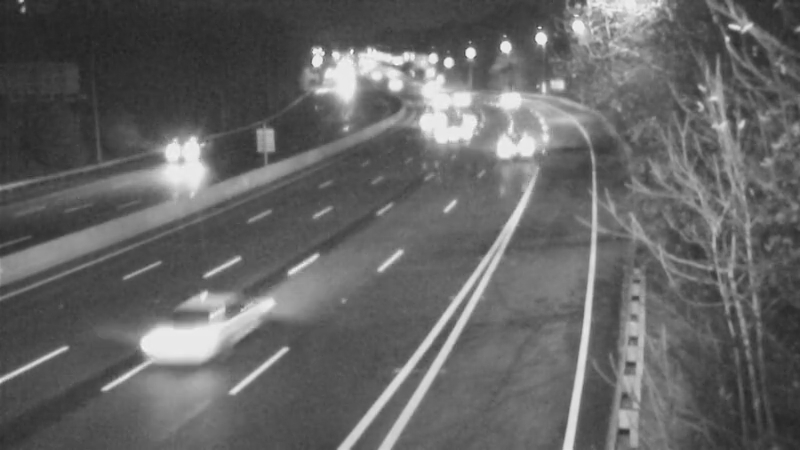vehicle: (132, 287, 242, 397), (406, 73, 456, 123), (431, 73, 481, 123), (486, 75, 536, 125), (399, 89, 449, 139), (414, 102, 464, 152), (484, 119, 534, 169), (159, 123, 209, 173)
